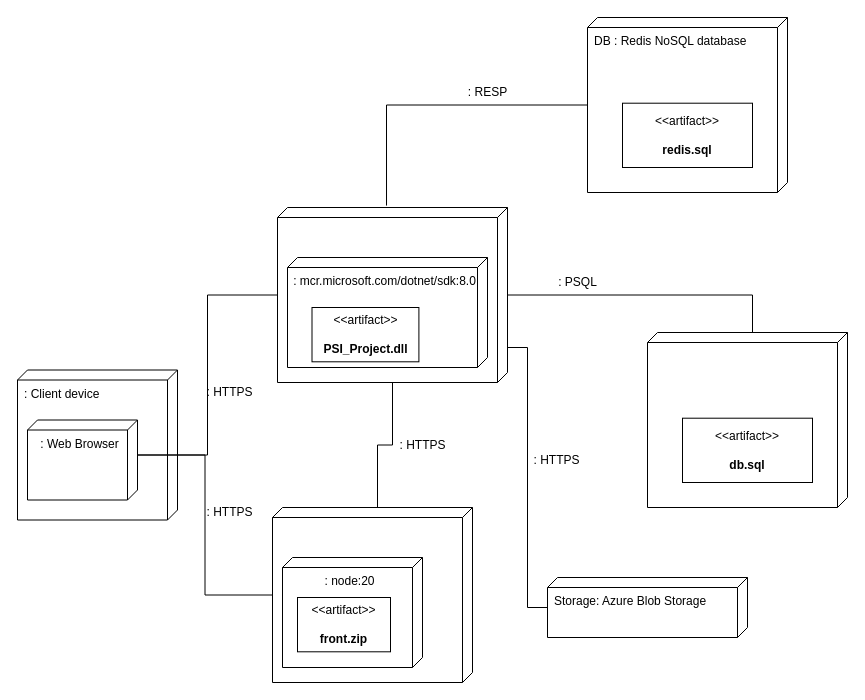
Some shapes in this 865 by 700 pixel diagram are drawn without their labels. Here are the shapes that lost their labels. From the top down, the box of each, then its label:
(276, 206, 508, 382): API : Azure Web App service
(646, 332, 848, 508): DB : Azure Postgresql Server
(272, 506, 472, 682): WEB : Azure Web App service
